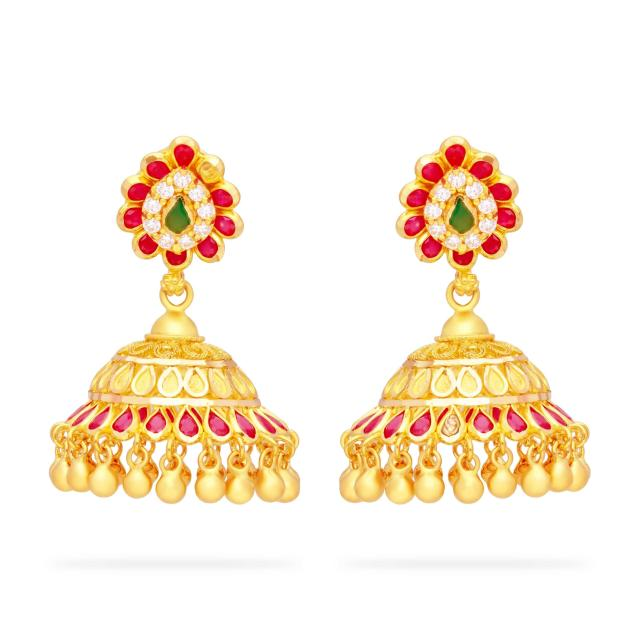missing gem: (441, 408, 460, 436), (194, 162, 217, 183)
